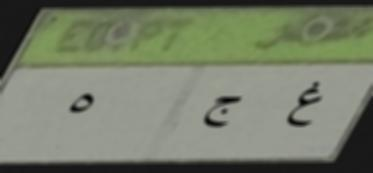5: (62, 79, 104, 131)
ghayn: (280, 70, 328, 146)
jeem: (198, 89, 246, 138)
